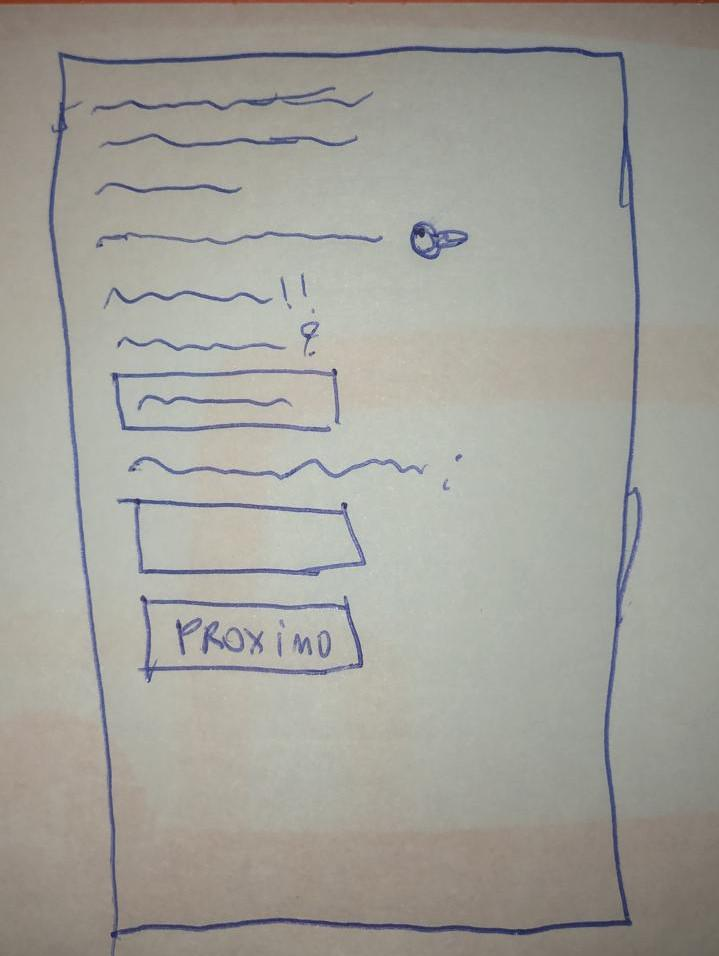Button: (141, 597, 364, 675), (112, 369, 340, 432)
Label: (89, 90, 375, 152), (126, 452, 464, 490), (102, 272, 318, 315), (117, 320, 320, 359), (93, 176, 245, 201)
Screen: (46, 44, 640, 939)
Switch: (96, 221, 468, 259)
TextBox: (134, 498, 367, 576)
